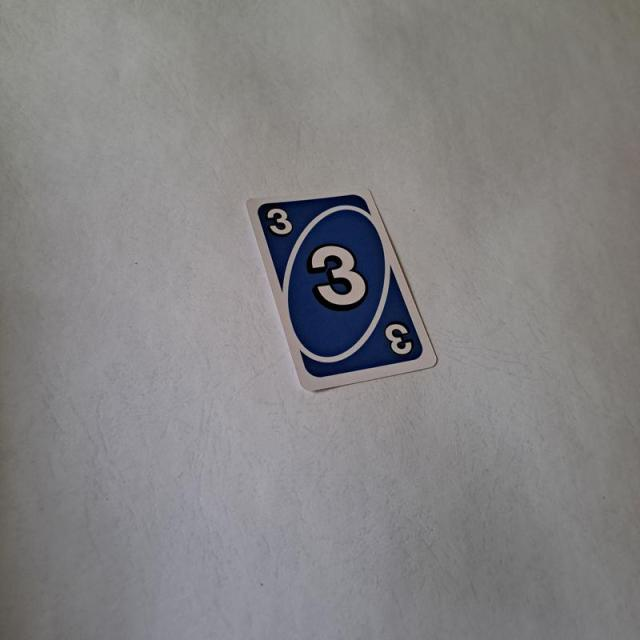Blue_Card: (254, 190, 427, 381)
Number_3: (264, 204, 297, 238)
